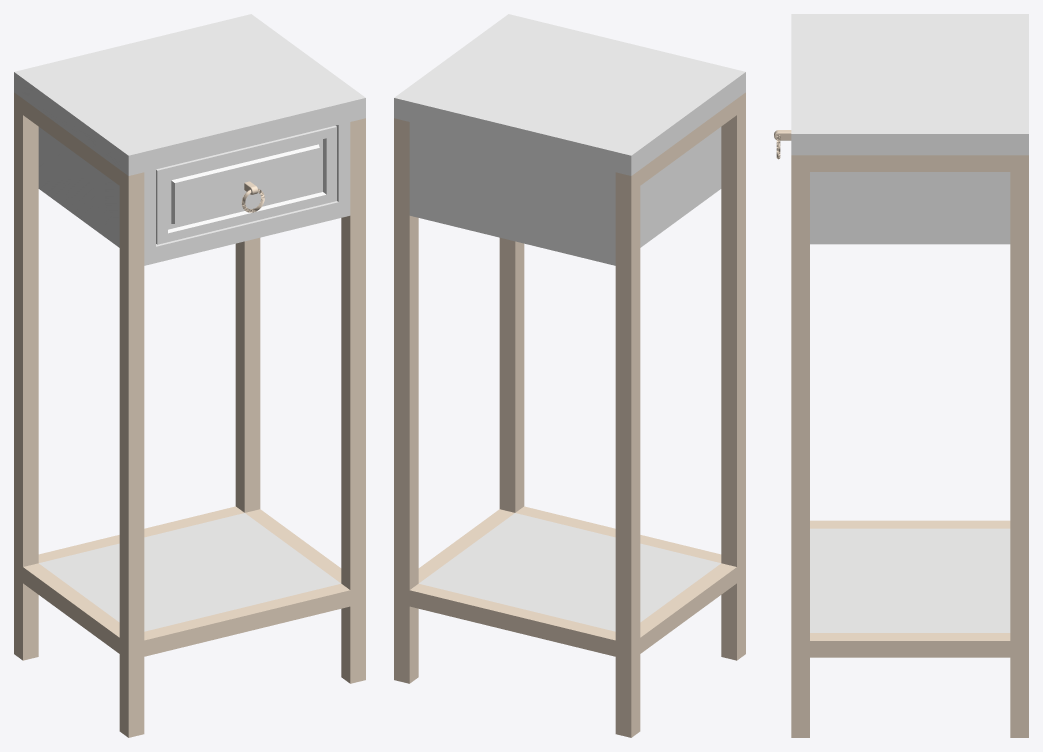
The model's file is 490_サイドテーブル.glb.
The picture shows the model from 3 angles, left to right: view 1: azimuth 30°, elevation 25°; view 2: azimuth 150°, elevation 25°; view 3: azimuth 270°, elevation 25°; orthographic projection. The views are drawn at different scales.
Visible parts, largest first — view 1: Body, hikidashi; view 2: Body; view 3: Body.
Part boxes in pixels (x1,y1,x2,y2): Body: (14, 14, 365, 737); hikidashi: (156, 125, 336, 244); Body: (394, 14, 745, 737); Body: (791, 14, 1028, 737).
Bounding box in the file's own units: 0.305 × 0.715 × 0.2733.
